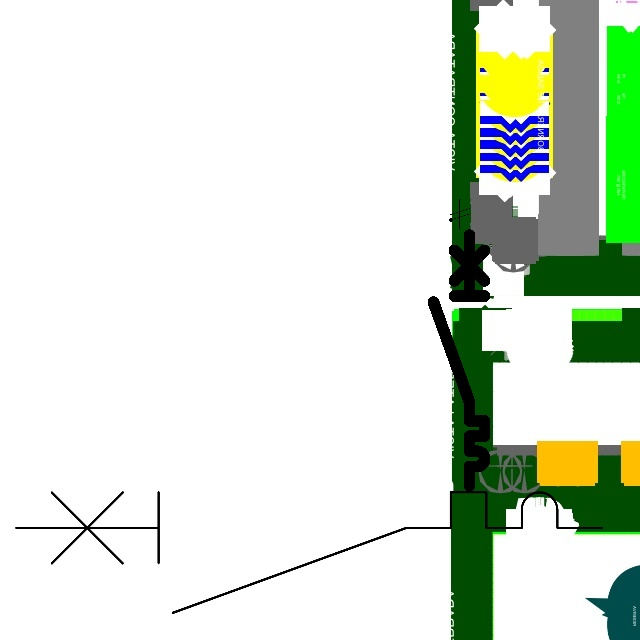interruptor_termomagnetico: (1, 477, 617, 628), (427, 228, 491, 491)
